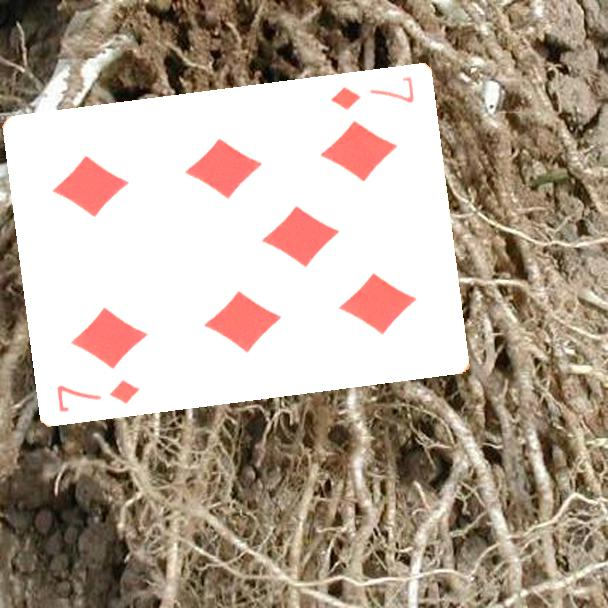d07: (327, 72, 417, 112), (53, 375, 143, 415)
